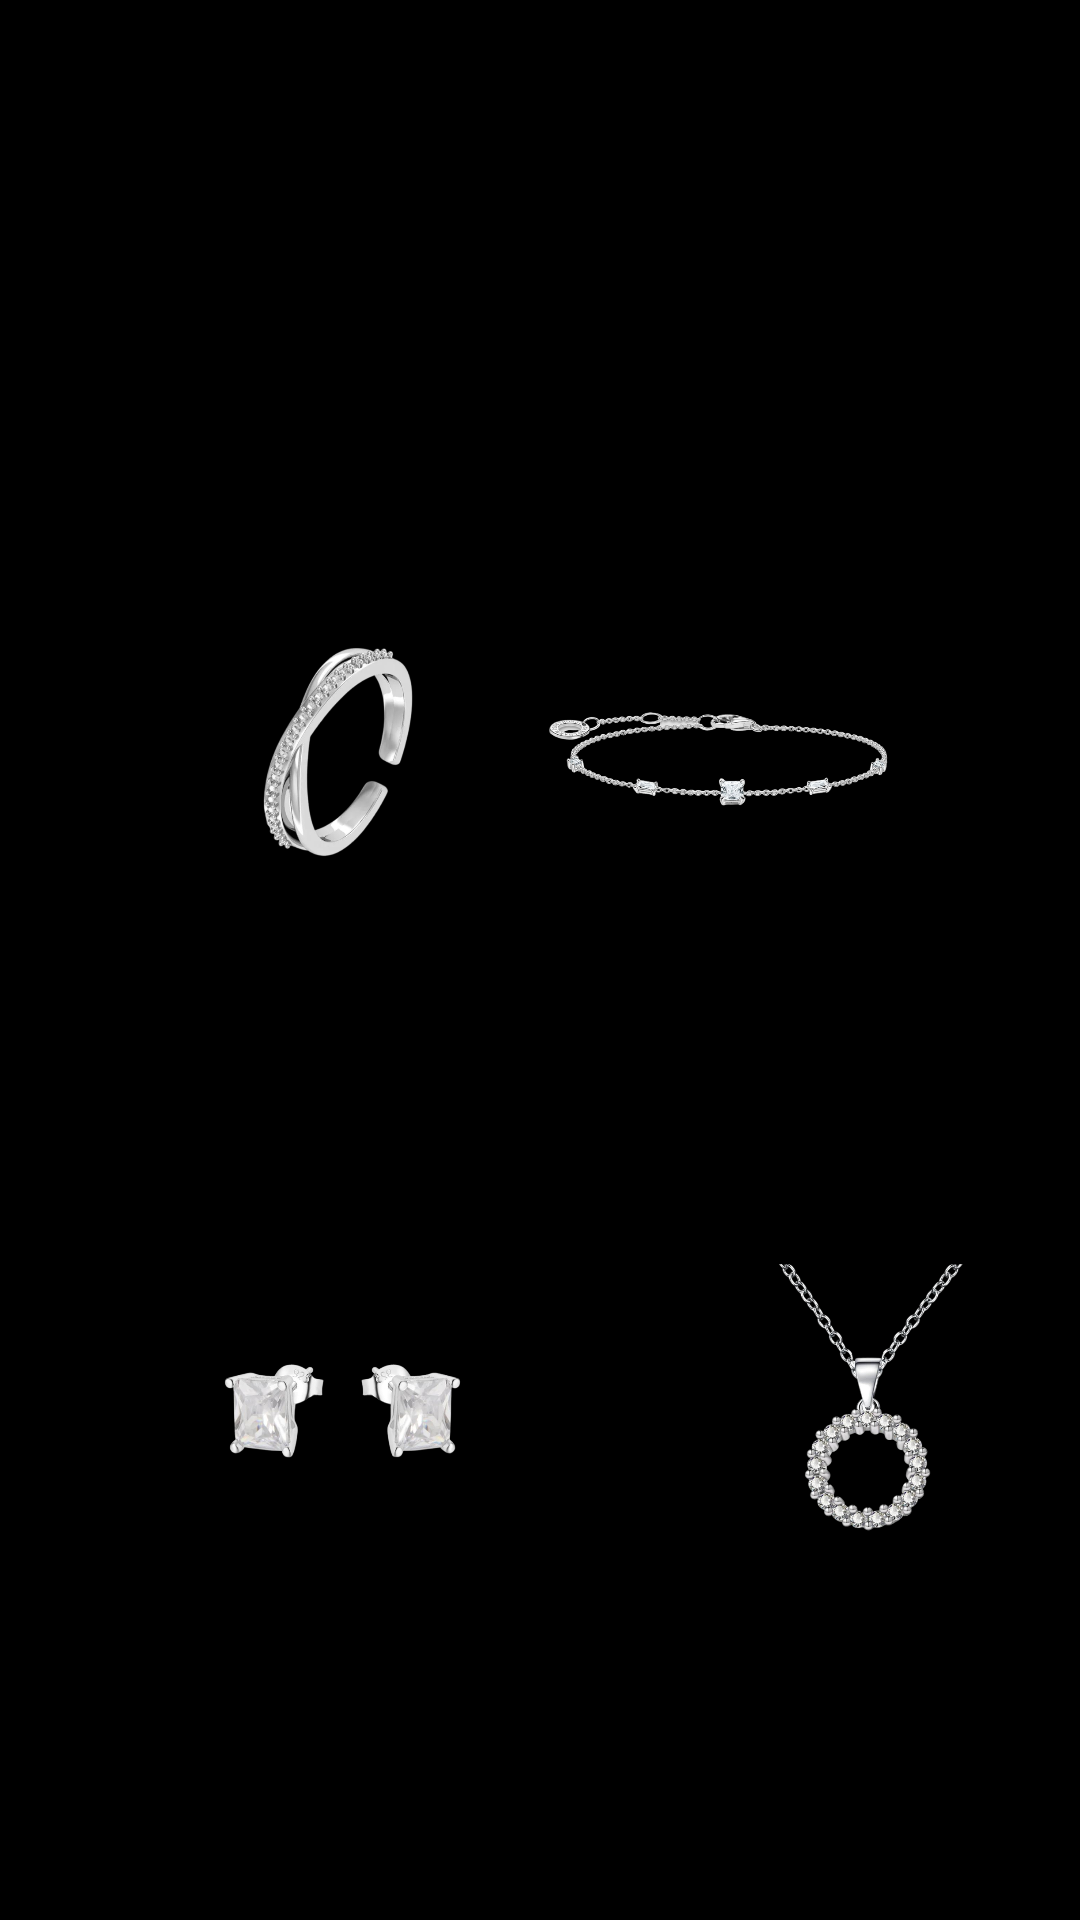

Named icons in this screenshot (1080 x 1920) and their centers, [x,y]:
sbracelet: [718,759]
searrings: [342,1411]
snecklace: [871,1397]
sring: [338,752]
